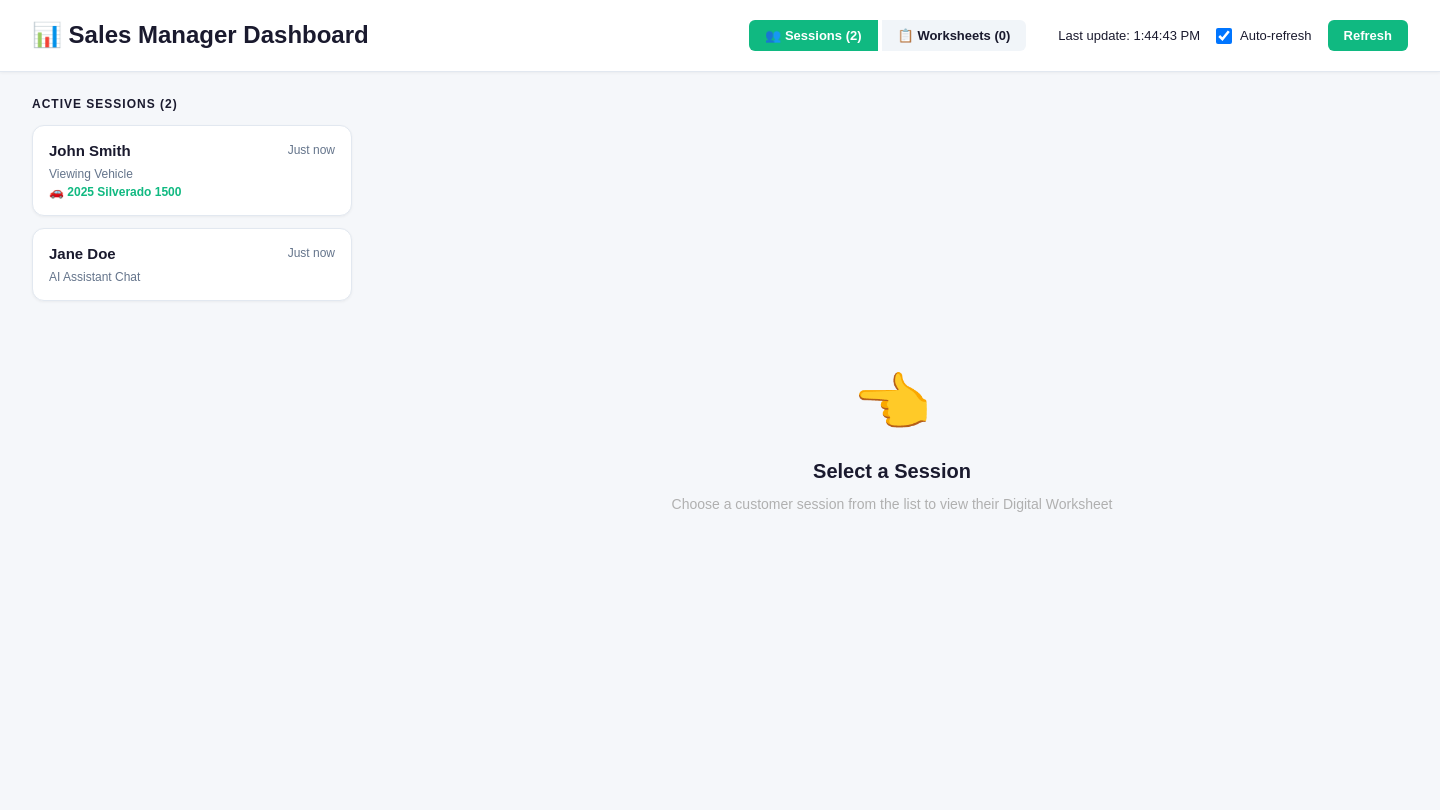
Test: SalesManagerDashboard Component › Digital Worksheet › displays trade-in section
The image size is (1440, 810).
Click the text "John Smith": [90, 150] box left=49, top=142, right=131, bottom=159
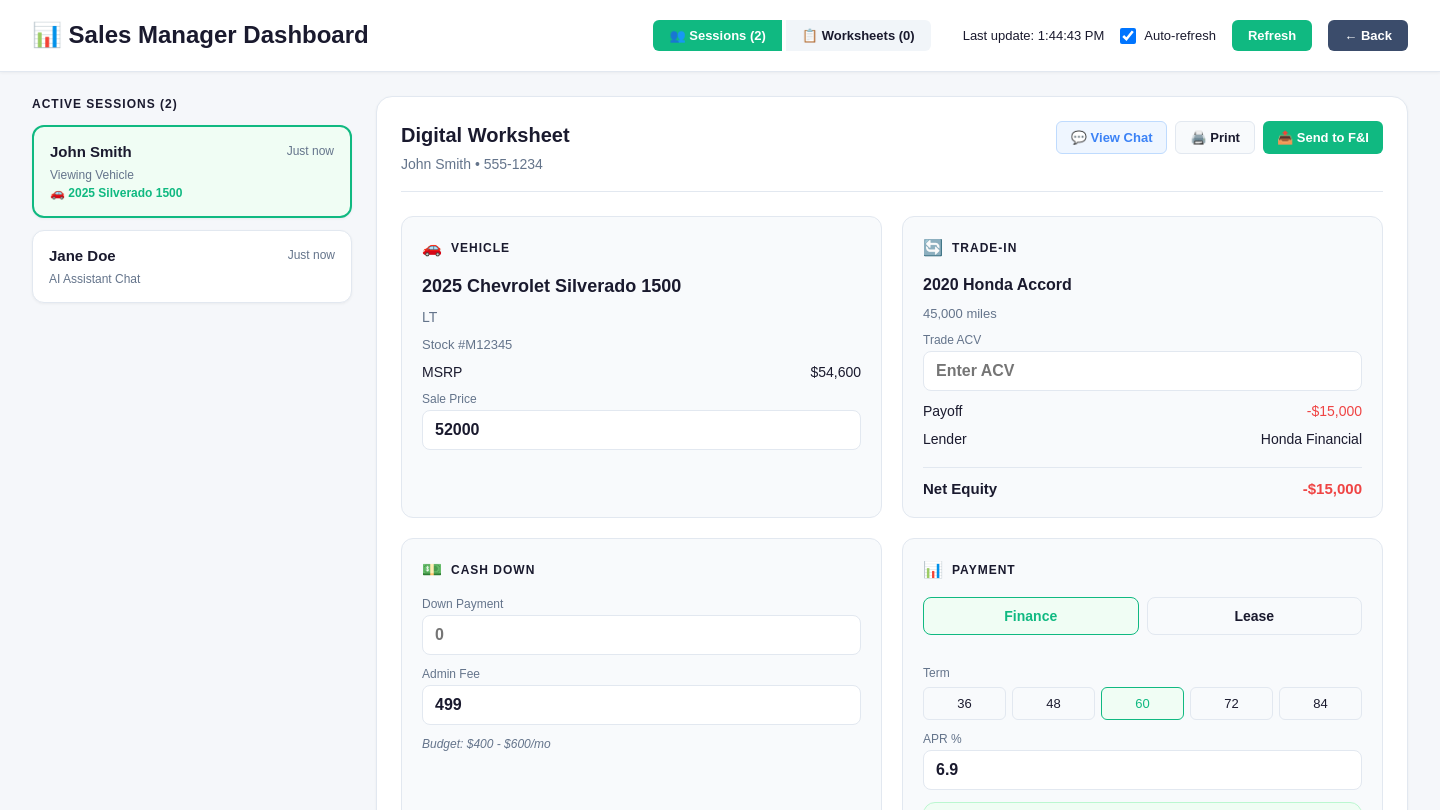
Now the heading "🔄 Trade-In" is shown, box left=923, top=239, right=1017, bottom=256
